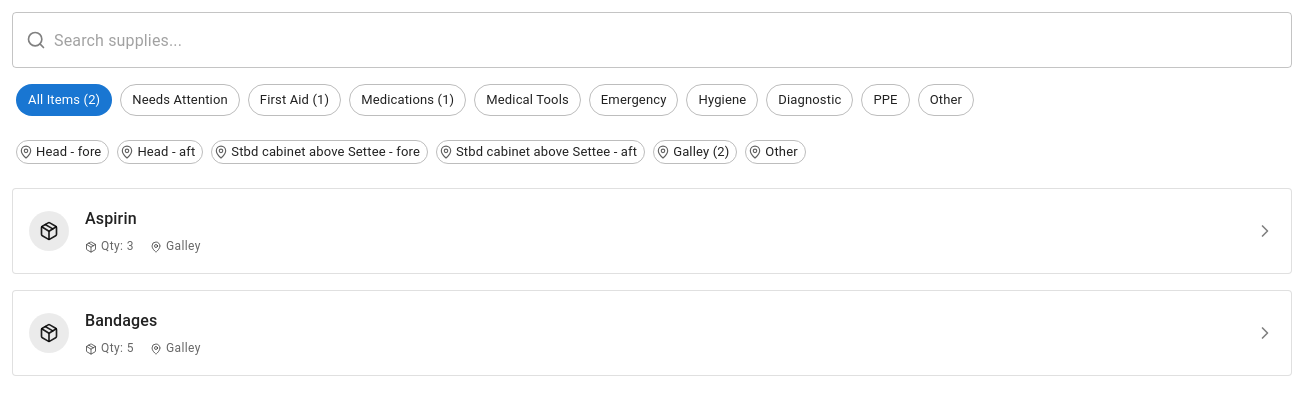
Test case: InventoryList › renders items and filters them by search text
Expected: the heading "Bandages" is shown, [85,307,158,335]
Expected: the heading "Aspirin" is shown, [85,205,137,233]
Type "Aspirin" into the field with placeholder "Search supplies..." at (673,40), box [54,12,1292,68]
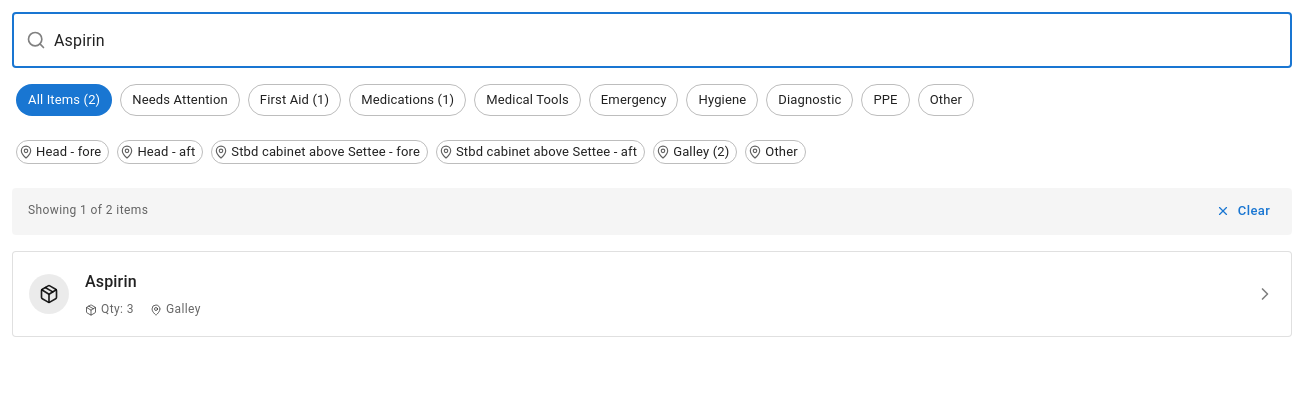
Expected: the heading "Aspirin" is shown, [85,268,137,296]
Expected: the button "Bandages" is gone
